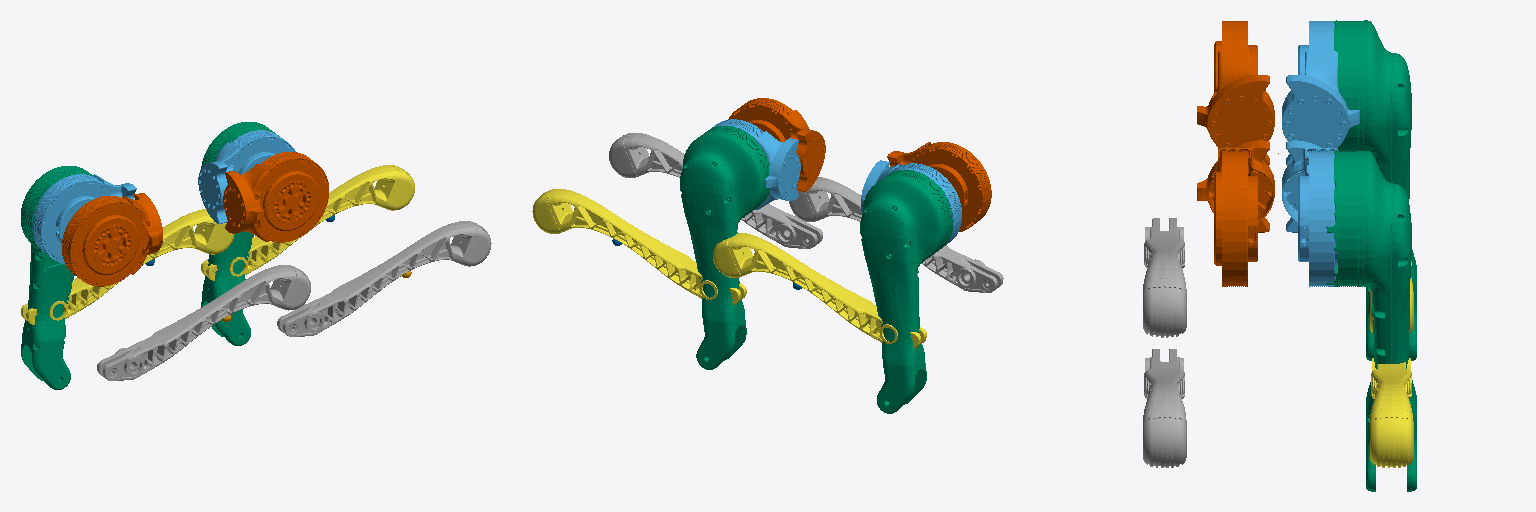
--- Render facts (derived) ---
The picture shows the robot from 3 angles, left to right: view 1: azimuth 30°, elevation 25°; view 2: azimuth 150°, elevation 25°; view 3: azimuth 270°, elevation 25°; orthographic projection.
Model go2 with 21 links and 20 joints (12 revolute, 8 fixed), rooted at base, posed joints at zero except 4 at the middle of their limits (FR_calf_joint = -1.78, FL_calf_joint = -1.78, RR_calf_joint = -1.78, RL_calf_joint = -1.78).
Visible links, largest first — view 1: FR_hip, RR_hip, RR_calf, FR_calf, RL_thigh, FL_calf, RL_hip, RL_calf, FL_thigh, FL_hip; view 2: RL_thigh, FL_thigh, FL_calf, RL_calf, FR_calf, RR_calf, RR_hip, FR_hip, FL_hip, RL_hip; view 3: FL_thigh, RL_thigh, FR_hip, RR_hip, RL_hip, FL_hip, RR_calf, FR_calf, FL_calf.
Link boxes in pixels (x1,y1,x2,y2): FR_hip: [223, 152, 328, 242]; RR_hip: [62, 193, 162, 286]; RR_calf: [97, 265, 310, 380]; FR_calf: [277, 221, 491, 336]; RL_thigh: [21, 166, 95, 389]; FL_calf: [201, 165, 414, 280]; RL_hip: [32, 174, 136, 264]; RL_calf: [21, 209, 234, 324]; FL_thigh: [201, 122, 278, 345]; FL_hip: [198, 130, 295, 223]; RL_thigh: [860, 170, 953, 413]; FL_thigh: [680, 126, 769, 369]; FL_calf: [532, 189, 746, 304]; RL_calf: [713, 233, 926, 348]; FR_calf: [609, 133, 822, 248]; RR_calf: [789, 177, 1003, 292]; RR_hip: [887, 142, 991, 231]; FR_hip: [728, 98, 825, 191]; FL_hip: [711, 119, 800, 209]; RL_hip: [861, 160, 961, 245]; FL_thigh: [1326, 151, 1416, 491]; RL_thigh: [1334, 20, 1416, 360]; FR_hip: [1197, 140, 1274, 286]; RR_hip: [1197, 21, 1274, 165]; RL_hip: [1282, 21, 1359, 165]; FL_hip: [1282, 140, 1337, 286]; RR_calf: [1143, 218, 1186, 337]; FR_calf: [1143, 349, 1186, 467]; FL_calf: [1370, 358, 1413, 467].
Size in the robot's own frame: 0.8544 by 0.3435 by 0.4589 metres.
10 mesh visuals loaded from 8 distinct referenced files (3 Collada DAE); not drawn: 6 (reference not matched to a file when rendering).

URDF robot description (go2):
<?xml version="1.0" ?>
<!-- =================================================================================== -->
<!-- |    This document was autogenerated by xacro from robot.xacro                    | -->
<!-- |    EDITING THIS FILE BY HAND IS NOT RECOMMENDED                                 | -->
<!-- =================================================================================== -->
<robot name="go2">
  <material name="black">
    <color rgba="0.0 0.0 0.0 1.0"/>
  </material>
  <material name="blue">
    <color rgba="0.0 0.0 0.8 1.0"/>
  </material>
  <material name="green">
    <color rgba="0.0 0.8 0.0 1.0"/>
  </material>
  <material name="grey">
    <color rgba="0.2 0.2 0.2 0.0"/>
  </material>
  <material name="silver">
    <color rgba="0.9137254901960784 0.9137254901960784 0.8470588235294118 1.0"/>
  </material>
  <material name="orange">
    <color rgba="1.0 0.4235294117647059 0.0392156862745098 1.0"/>
  </material>
  <material name="brown">
    <color rgba="0.8705882352941177 0.8117647058823529 0.7647058823529411 1.0"/>
  </material>
  <material name="red">
    <color rgba="0.8 0.0 0.0 1.0"/>
  </material>
  <material name="white">
    <color rgba="1.0 1.0 1.0 1.0"/>
  </material>
  <!-- ros_control plugin -->
  <gazebo>
    <plugin filename="libgazebo_ros_control.so" name="gazebo_ros_control">
      <!-- <robotNamespace>/go2_gazebo</robotNamespace>
      <robotSimType>gazebo_ros_control/DefaultRobotHWSim</robotSimType> -->
    </plugin>
  </gazebo>
  <!-- Show the trajectory of trunk center. -->
  <!--gazebo>
        <plugin name="3dplot" filename="libLinkPlot3DPlugin.so">
            <frequency>10</frequency>
            <plot>
                <link>base</link>
                <pose>0 0 0 0 0 0</pose>
                <material>Gazebo/Yellow</material>
            </plot>
        </plugin>
    </gazebo-->
  <!-- Show the trajectory of foot. You can add another trajectory about another foot. -->
  <!-- <gazebo>
    <plugin filename="libLinkPlot3DPlugin.so" name="3dplot">
      <frequency>100</frequency>
      <plot>
        <link>FL_foot</link>
        <pose>0 0 0 0 0 0</pose>
      </plot>
    </plugin>
  </gazebo> -->
  <gazebo> 
    <plugin filename="libgazebo_ros_force.so" name="gazebo_ros_force">
      <bodyName>trunk</bodyName>
      <topicName>/apply_force/trunk</topicName>
    </plugin>
  </gazebo>
  <gazebo reference="imu_link">
    <gravity>true</gravity>
    <sensor name="imu_sensor" type="imu">
      <always_on>true</always_on>
      <update_rate>1000</update_rate>
      <visualize>true</visualize>
      <topic>__default_topic__</topic>
      <plugin filename="libgazebo_ros_imu_sensor.so" name="imu_plugin">
        <topicName>trunk_imu</topicName>
        <bodyName>imu_link</bodyName>
        <updateRateHZ>1000.0</updateRateHZ>
        <gaussianNoise>0.0</gaussianNoise>
        <xyzOffset>0 0 0</xyzOffset>
        <rpyOffset>0 0 0</rpyOffset>
        <frameName>imu_link</frameName>
      </plugin>
      <pose>0 0 0 0 0 0</pose>
    </sensor>
  </gazebo>
  <!-- Foot contacts. -->
  <gazebo reference="FR_calf">
    <sensor name="FR_foot_contact" type="contact">
      <update_rate>100</update_rate>
      <plugin filename="libunitreeFootContactPlugin.so" name="contactPlugin"/>
      <contact>
        <collision>FR_calf_fixed_joint_lump__FR_foot_collision_1</collision>
      </contact>
    </sensor>
  </gazebo>
  <gazebo reference="FL_calf">
    <sensor name="FL_foot_contact" type="contact">
      <update_rate>100</update_rate>
      <plugin filename="libunitreeFootContactPlugin.so" name="contactPlugin"/>
      <contact>
        <collision>FL_calf_fixed_joint_lump__FL_foot_collision_1</collision>
      </contact>
    </sensor>
  </gazebo>
  <gazebo reference="RR_calf">
    <sensor name="RR_foot_contact" type="contact">
      <update_rate>100</update_rate>
      <plugin filename="libunitreeFootContactPlugin.so" name="contactPlugin"/>
      <contact>
        <collision>RR_calf_fixed_joint_lump__RR_foot_collision_1</collision>
      </contact>
    </sensor>
  </gazebo>
  <gazebo reference="RL_calf">
    <sensor name="RL_foot_contact" type="contact">
      <update_rate>100</update_rate>
      <plugin filename="libunitreeFootContactPlugin.so" name="contactPlugin"/>
      <contact>
        <collision>RL_calf_fixed_joint_lump__RL_foot_collision_1</collision>
      </contact>
    </sensor>
  </gazebo>
  <!-- Visualization of Foot contacts. -->
  <gazebo reference="FR_foot">
    <visual>
      <plugin filename="libunitreeDrawForcePlugin.so" name="drawForcePlugin">
        <topicName>FR_foot_contact</topicName>
      </plugin>
    </visual>
  </gazebo>
  <gazebo reference="FL_foot">
    <visual>
      <plugin filename="libunitreeDrawForcePlugin.so" name="drawForcePlugin">
        <topicName>FL_foot_contact</topicName>
      </plugin>
    </visual>
  </gazebo>
  <gazebo reference="RR_foot">
    <visual>
      <plugin filename="libunitreeDrawForcePlugin.so" name="drawForcePlugin">
        <topicName>RR_foot_contact</topicName>
      </plugin>
    </visual>
  </gazebo>
  <gazebo reference="RL_foot">
    <visual>
      <plugin filename="libunitreeDrawForcePlugin.so" name="drawForcePlugin">
        <topicName>RL_foot_contact</topicName>
      </plugin>
    </visual>
  </gazebo>
  <gazebo reference="base">
    <turnGravityOff>false</turnGravityOff>
  </gazebo>
  <gazebo reference="trunk">
    <mu1>0.2</mu1>
    <mu2>0.2</mu2>
    <kp value="1000000.0"/>
    <kd value="1.0"/>
  </gazebo>
  <gazebo reference="stick_link">
    <mu1>0.2</mu1>
    <mu2>0.2</mu2>
  </gazebo>
  <gazebo reference="imu_link">
    <mu1>0.2</mu1>
    <mu2>0.2</mu2>
  </gazebo>
  <!-- FL leg -->
  <gazebo reference="FL_hip">
    <mu1>0.2</mu1>
    <mu2>0.2</mu2>
  </gazebo>
  <gazebo reference="FL_thigh">
    <mu1>0.2</mu1>
    <mu2>0.2</mu2>
    <self_collide>1</self_collide>
    <kp value="1000000.0"/>
    <kd value="1.0"/>
  </gazebo>
  <gazebo reference="FL_calf">
    <mu1>0.2</mu1>
    <mu2>0.2</mu2>
    <self_collide>1</self_collide>
  </gazebo>
  <gazebo reference="FL_foot">
    <mu1>0.6</mu1>
    <mu2>0.6</mu2>
    <self_collide>1</self_collide>
    <kp value="1000000.0"/>
    <kd value="1.0"/>
  </gazebo>
  <!-- FR leg -->
  <gazebo reference="FR_hip">
    <mu1>0.2</mu1>
    <mu2>0.2</mu2>
  </gazebo>
  <gazebo reference="FR_thigh">
    <mu1>0.2</mu1>
    <mu2>0.2</mu2>
    <self_collide>1</self_collide>
    <kp value="1000000.0"/>
    <kd value="1.0"/>
  </gazebo>
  <gazebo reference="FR_calf">
    <mu1>0.2</mu1>
    <mu2>0.2</mu2>
    <self_collide>1</self_collide>
  </gazebo>
  <gazebo reference="FR_foot">
    <mu1>0.6</mu1>
    <mu2>0.6</mu2>
    <self_collide>1</self_collide>
    <kp value="1000000.0"/>
    <kd value="1.0"/>
  </gazebo>
  <!-- RL leg -->
  <gazebo reference="RL_hip">
    <mu1>0.2</mu1>
    <mu2>0.2</mu2>
  </gazebo>
  <gazebo reference="RL_thigh">
    <mu1>0.2</mu1>
    <mu2>0.2</mu2>
    <self_collide>1</self_collide>
    <kp value="1000000.0"/>
    <kd value="1.0"/>
  </gazebo>
  <gazebo reference="RL_calf">
    <mu1>0.2</mu1>
    <mu2>0.2</mu2>
    <self_collide>1</self_collide>
  </gazebo>
  <gazebo reference="RL_foot">
    <mu1>0.6</mu1>
    <mu2>0.6</mu2>
    <self_collide>1</self_collide>
    <kp value="1000000.0"/>
    <kd value="1.0"/>
  </gazebo>
  <!-- RR leg -->
  <gazebo reference="RR_hip">
    <mu1>0.2</mu1>
    <mu2>0.2</mu2>
  </gazebo>
  <gazebo reference="RR_thigh">
    <mu1>0.2</mu1>
    <mu2>0.2</mu2>
    <self_collide>1</self_collide>
    <kp value="1000000.0"/>
    <kd value="1.0"/>
  </gazebo>
  <gazebo reference="RR_calf">
    <mu1>0.2</mu1>
    <mu2>0.2</mu2>
    <self_collide>1</self_collide>
  </gazebo>
  <gazebo reference="RR_foot">
    <mu1>0.6</mu1>
    <mu2>0.6</mu2>
    <self_collide>1</self_collide>
    <kp value="1000000.0"/>
    <kd value="1.0"/>
  </gazebo>
  <!-- <xacro:stairs stairs="15" xpos="0" ypos="0" zpos="0" /> -->
  <!-- Rotor related joint and link is only for demonstrate location. -->
  <!-- Actually, the rotor will rotate and the joint is not fixed. Reduction ratio should be considered. -->
  <link name="base">
    <visual>
      <origin rpy="0 0 0" xyz="0 0 0"/>
      <geometry>
        <box size="0.001 0.001 0.001"/>
      </geometry>
    </visual>
  </link>
  <joint name="velodyne_base_mount_joint" type="fixed">
    <origin rpy="0 0 0" xyz="0.2 0 0.08"/>
    <parent link="trunk"/>
    <child link="velodyne_base_link"/>
  </joint>
  <link name="velodyne_base_link">
    <inertial>
      <mass value="0.01"/>
      <origin xyz="0 0 0.03585"/>
      <inertia ixx="0.000908059425" ixy="0" ixz="0" iyy="0.000908059425" iyz="0" izz="0.0011049624"/>
    </inertial>
    <visual>
      <geometry>
        <mesh filename="package://velodyne_description/meshes/VLP16_base_1.dae"/>
      </geometry>
    </visual>
    <visual>
      <geometry>
        <mesh filename="package://velodyne_description/meshes/VLP16_base_2.dae"/>
      </geometry>
    </visual>
    <collision>
      <origin rpy="0 0 0" xyz="0 0 0.03585"/>
      <geometry>
        <cylinder length="0.0717" radius="0.0516"/>
      </geometry>
    </collision>
  </link>
  <joint name="velodyne_base_scan_joint" type="fixed">
    <origin rpy="0 0 0" xyz="0 0 0.0377"/>
    <parent link="velodyne_base_link"/>
    <child link="velodyne"/>
  </joint>
  <link name="velodyne">
    <inertial>
      <mass value="0.01"/>
      <origin xyz="0 0 0"/>
      <inertia ixx="1e-7" ixy="0" ixz="0" iyy="1e-7" iyz="0" izz="1e-7"/>
    </inertial>
    <visual>
      <origin xyz="0 0 -0.0377"/>
      <geometry>
        <mesh filename="package://velodyne_description/meshes/VLP16_scan.dae"/>
      </geometry>
    </visual>
    <collision>
      <geometry>
        <sphere radius="0"/>
      </geometry>
    </collision>
  </link>
  <!-- Gazebo requires the velodyne_gazebo_plugins package -->
  <gazebo reference="velodyne">
    <sensor name="velodyne-VLP16" type="ray">
      <pose>0 0 0 0 0 0</pose>
      <visualize>false</visualize>
      <update_rate>10</update_rate>
      <ray>
        <scan>
          <horizontal>
            <samples>440</samples>
            <resolution>1</resolution>
            <min_angle>-3.141592653589793</min_angle>
            <max_angle>3.141592653589793</max_angle>
          </horizontal>
          <vertical>
            <samples>16</samples>
            <resolution>1</resolution>
            <min_angle>-0.2617993877991494</min_angle>
            <max_angle> 0.2617993877991494</max_angle>
          </vertical>
        </scan>
        <range>
          <min>0.3</min>
          <max>131.0</max>
          <resolution>0.001</resolution>
        </range>
        <noise>
          <type>gaussian</type>
          <mean>0.0</mean>
          <stddev>0.0</stddev>
        </noise>
      </ray>
      <plugin filename="libgazebo_ros_velodyne_laser.so" name="gazebo_ros_laser_controller">
        <topicName>/velodyne_points</topicName>
        <frameName>velodyne</frameName>
        <organize_cloud>False</organize_cloud>
        <min_range>0.9</min_range>
        <max_range>130.0</max_range>
        <gaussianNoise>0.008</gaussianNoise>
      </plugin>
    </sensor>
  </gazebo>
  <joint name="floating_base" type="fixed">
    <origin rpy="0 0 0" xyz="0 0 0"/>
    <parent link="base"/>
    <child link="trunk"/>
  </joint>
  <link name="trunk">
    <visual>
      <origin rpy="0 0 0" xyz="0 0 0"/>
      <geometry>
        <mesh filename="package://go2_description/meshes/trunk.dae" scale="1 1 1"/>
      </geometry>
      <!-- <material name="orange"/> -->
    </visual>
    <collision>
      <origin rpy="0 0 0" xyz="0 0 0"/>
      <geometry>
        <box size="0.3762 0.0935 0.114"/>
      </geometry>
    </collision>
    <inertial>
      <origin rpy="0 0 0" xyz="0.021112 0.0 -0.005366"/>
      <mass value="6.921"/>
      <inertia ixx="0.02448" ixy="0.00012166" ixz="0.0014849" iyy="0.098077" iyz="-3.12e-05" izz="0.107"/>
    </inertial>
  </link>
  <joint name="imu_joint" type="fixed">
    <parent link="trunk"/>
    <child link="imu_link"/>
    <origin rpy="0 0 0" xyz="0 0 0"/>
  </joint>
  <link name="imu_link">
    <inertial>
      <mass value="0.001"/>
      <origin rpy="0 0 0" xyz="0 0 0"/>
      <inertia ixx="0.0001" ixy="0" ixz="0" iyy="0.0001" iyz="0" izz="0.0001"/>
    </inertial>
    <visual>
      <origin rpy="0 0 0" xyz="0 0 0"/>
      <geometry>
        <box size="0.001 0.001 0.001"/>
      </geometry>
      <!-- <material name="red"/> -->
    </visual>
    <collision>
      <origin rpy="0 0 0" xyz="0 0 0"/>
      <geometry>
        <box size=".001 .001 .001"/>
      </geometry>
    </collision>
  </link>
  <joint name="FR_hip_joint" type="revolute">
    <origin rpy="0 0 0" xyz="0.1934 -0.0465 0"/>
    <parent link="trunk"/>
    <child link="FR_hip"/>
    <axis xyz="1 0 0"/>
    <dynamics damping="0.01" friction="0.2"/>
    <limit effort="23.7" lower="-1.0472" upper="1.0472" velocity="30.1"/>
  </joint>
  <link name="FR_hip">
    <visual>
      <origin rpy="3.141592653589793 0 0" xyz="0 0 0"/>
      <geometry>
        <mesh filename="package://go2_description/meshes/hip.dae" scale="1 1 1"/>
      </geometry>
      <!-- <material name="orange"/> -->
    </visual>
    <collision>
      <origin rpy="1.5707963267948966 0 0" xyz="0 -0.0955 0"/>
      <geometry>
        <cylinder length="0.04" radius="0.046"/>
      </geometry>
    </collision>
    <inertial>
      <origin rpy="0 0 0" xyz="-0.0054 -0.00194 -0.000105"/>
      <mass value="0.678"/>
      <inertia ixx="0.00048" ixy="3.01e-06" ixz="1.11e-06" iyy="0.000884" iyz="1.42e-06" izz="0.000596"/>
    </inertial>
  </link>
  <joint name="FR_thigh_joint" type="revolute">
    <origin rpy="0 0 0" xyz="0 -0.0955 0"/>
    <parent link="FR_hip"/>
    <child link="FR_thigh"/>
    <axis xyz="0 1 0"/>
    <dynamics damping="0.01" friction="0.2"/>
    <limit effort="23.7" lower="-1.5708" upper="3.4907" velocity="30.1"/>
  </joint>
  <link name="FR_thigh">
    <visual>
      <origin rpy="0 0 0" xyz="0 0 0"/>
      <geometry>
        <mesh filename="package://go2_description/meshes/thigh_mirror.dae" scale="1 1 1"/>
      </geometry>
      <!-- <material name="orange"/> -->
    </visual>
    <collision>
      <origin rpy="0 1.5707963267948966 0" xyz="0 0 -0.1065"/>
      <geometry>
        <box size="0.213 0.0245 0.034"/>
      </geometry>
    </collision>
    <inertial>
      <origin rpy="0 0 0" xyz="-0.00374 0.0223 -0.0327"/>
      <mass value="1.152"/>
      <inertia ixx="0.00584" ixy="-8.72e-05" ixz="-0.000289" iyy="0.0058" iyz="-0.000808" izz="0.00103"/>
    </inertial>
  </link>
  <joint name="FR_calf_joint" type="revolute">
    <origin rpy="0 0 0" xyz="0 0 -0.213"/>
    <parent link="FR_thigh"/>
    <child link="FR_calf"/>
    <axis xyz="0 1 0"/>
    <dynamics damping="0.01" friction="0.2"/>
    <limit effort="35.55" lower="-2.7227" upper="-0.83776" velocity="20.06"/>
  </joint>
  <link name="FR_calf">
    <visual>
      <origin rpy="0 0 0" xyz="0 0 0"/>
      <geometry>
        <mesh filename="package://go2_description/meshes/calf.dae" scale="1 1 1"/>
      </geometry>
      <!-- <material name="orange"/> -->
    </visual>
    <collision>
      <origin rpy="0 1.5707963267948966 0" xyz="0 0 -0.1065"/>
      <geometry>
        <box size="0.213 0.016 0.016"/>
      </geometry>
    </collision>
    <inertial>
      <origin rpy="0 0 0" xyz="0.00548 -0.000975 -0.115"/>
      <mass value="0.154"/>
      <inertia ixx="0.00108" ixy="3.4e-07" ixz="1.72e-05" iyy="0.0011" iyz="8.28e-06" izz="3.29e-05"/>
    </inertial>
  </link>
  <joint name="FR_foot_fixed" type="fixed">
    0
            
    <origin rpy="0 0 0" xyz="0 0 -0.213"/>
    <parent link="FR_calf"/>
    <child link="FR_foot"/>
  </joint>
  <link name="FR_foot">
    <visual>
      <origin rpy="0 0 0" xyz="0 0 0"/>
      <geometry>
        <sphere radius="0.01"/>
      </geometry>
      <!-- <material name="orange"/> -->
    </visual>
    <collision>
      <origin rpy="0 0 0" xyz="0 0 0"/>
      <geometry>
        <sphere radius="0.02"/>
      </geometry>
    </collision>
    <inertial>
      <mass value="0.06"/>
      <inertia ixx="9.600000000000001e-06" ixy="0.0" ixz="0.0" iyy="9.600000000000001e-06" iyz="0.0" izz="9.600000000000001e-06"/>
    </inertial>
  </link>
  <transmission name="FR_hip_tran">
    <type>transmission_interface/SimpleTransmission</type>
    <joint name="FR_hip_joint">
      <hardwareInterface>hardware_interface/EffortJointInterface</hardwareInterface>
    </joint>
    <actuator name="FR_hip_motor">
      <hardwareInterface>hardware_interface/EffortJointInterface</hardwareInterface>
      <mechanicalReduction>1</mechanicalReduction>
    </actuator>
  </transmission>
  <transmission name="FR_thigh_tran">
    <type>transmission_interface/SimpleTransmission</type>
    <joint name="FR_thigh_joint">
      <hardwareInterface>hardware_interface/EffortJointInterface</hardwareInterface>
    </joint>
    <actuator name="FR_thigh_motor">
      <hardwareInterface>hardware_interface/EffortJointInterface</hardwareInterface>
      <mechanicalReduction>1</mechanicalReduction>
    </actuator>
  </transmission>
  <transmission name="FR_calf_tran">
    <type>transmission_interface/SimpleTransmission</type>
    <joint name="FR_calf_joint">
      <hardwareInterface>hardware_interface/EffortJointInterface</hardwareInterface>
    </joint>
    <actuator name="FR_calf_motor">
      <hardwareInterface>hardware_interface/EffortJointInterface</hardwareInterface>
      <mechanicalReduction>1</mechanicalReduction>
    </actuator>
  </transmission>
  <joint name="FL_hip_joint" type="revolute">
    <origin rpy="0 0 0" xyz="0.1934 0.0465 0"/>
    <parent link="trunk"/>
    <child link="FL_hip"/>
    <axis xyz="1 0 0"/>
    <dynamics damping="0.01" friction="0.2"/>
    <limit effort="23.7" lower="-1.0472" upper="1.0472" velocity="30.1"/>
  </joint>
  <link name="FL_hip">
    <visual>
      <origin rpy="0 0 0" xyz="0 0 0"/>
      <geometry>
        <mesh filename="package://go2_description/meshes/hip.dae" scale="1 1 1"/>
      </geometry>
      <!-- <material name="orange"/> -->
    </visual>
    <collision>
      <origin rpy="1.5707963267948966 0 0" xyz="0 0.0955 0"/>
      <geometry>
        <cylinder length="0.04" radius="0.046"/>
      </geometry>
    </collision>
    <inertial>
      <origin rpy="0 0 0" xyz="-0.0054 0.00194 -0.000105"/>
      <mass value="0.678"/>
      <inertia ixx="0.00048" ixy="-3.01e-06" ixz="1.11e-06" iyy="0.000884" iyz="-1.42e-06" izz="0.000596"/>
    </inertial>
  </link>
  <joint name="FL_thigh_joint" type="revolute">
    <origin rpy="0 0 0" xyz="0 0.0955 0"/>
    <parent link="FL_hip"/>
    <child link="FL_thigh"/>
    <axis xyz="0 1 0"/>
    <dynamics damping="0.01" friction="0.2"/>
    <limit effort="23.7" lower="-1.5708" upper="3.4907" velocity="30.1"/>
  </joint>
  <link name="FL_thigh">
    <visual>
      <origin rpy="0 0 0" xyz="0 0 0"/>
      <geometry>
        <mesh filename="package://go2_description/meshes/thigh.dae" scale="1 1 1"/>
      </geometry>
      <!-- <material name="orange"/> -->
    </visual>
    <collision>
      <origin rpy="0 1.5707963267948966 0" xyz="0 0 -0.1065"/>
      <geometry>
        <box size="0.213 0.0245 0.034"/>
      </geometry>
    </collision>
    <inertial>
      <origin rpy="0 0 0" xyz="-0.00374 -0.0223 -0.0327"/>
      <mass value="1.152"/>
      <inertia ixx="0.00584" ixy="8.72e-05" ixz="-0.000289" iyy="0.0058" iyz="0.000808" izz="0.00103"/>
    </inertial>
  </link>
  <joint name="FL_calf_joint" type="revolute">
    <origin rpy="0 0 0" xyz="0 0 -0.213"/>
    <parent link="FL_thigh"/>
    <child link="FL_calf"/>
    <axis xyz="0 1 0"/>
    <dynamics damping="0.01" friction="0.2"/>
    <limit effort="35.55" lower="-2.7227" upper="-0.83776" velocity="20.06"/>
  </joint>
  <link name="FL_calf">
    <visual>
      <origin rpy="0 0 0" xyz="0 0 0"/>
      <geometry>
        <mesh filename="package://go2_description/meshes/calf.dae" scale="1 1 1"/>
      </geometry>
      <!-- <material name="orange"/> -->
    </visual>
    <collision>
      <origin rpy="0 1.5707963267948966 0" xyz="0 0 -0.1065"/>
      <geometry>
        <box size="0.213 0.016 0.016"/>
      </geometry>
    </collision>
    <inertial>
      <origin rpy="0 0 0" xyz="0.00548 -0.000975 -0.115"/>
      <mass value="0.154"/>
      <inertia ixx="0.00108" ixy="3.4e-07" ixz="1.72e-05" iyy="0.0011" iyz="8.28e-06" izz="3.29e-05"/>
    </inertial>
  </link>
  <joint name="FL_foot_fixed" type="fixed">
    0
            
    <origin rpy="0 0 0" xyz="0 0 -0.213"/>
    <parent link="FL_calf"/>
    <child link="FL_foot"/>
  </joint>
  <link name="FL_foot">
    <visual>
      <origin rpy="0 0 0" xyz="0 0 0"/>
      <geometry>
        <sphere radius="0.01"/>
      </geometry>
      <!-- <material name="orange"/> -->
    </visual>
    <collision>
      <origin rpy="0 0 0" xyz="0 0 0"/>
      <geometry>
        <sphere radius="0.02"/>
      </geometry>
    </collision>
    <inertial>
      <mass value="0.06"/>
      <inertia ixx="9.600000000000001e-06" ixy="0.0" ixz="0.0" iyy="9.600000000000001e-06" iyz="0.0" izz="9.600000000000001e-06"/>
    </inertial>
  </link>
  <transmission name="FL_hip_tran">
    <type>transmission_interface/SimpleTransmission</type>
    <joint name="FL_hip_joint">
      <hardwareInterface>hardware_interface/EffortJointInterface</hardwareInterface>
    </joint>
    <actuator name="FL_hip_motor">
      <hardwareInterface>hardware_interface/EffortJointInterface</hardwareInterface>
      <mechanicalReduction>1</mechanicalReduction>
    </actuator>
  </transmission>
  <transmission name="FL_thigh_tran">
    <type>transmission_interface/SimpleTransmission</type>
    <joint name="FL_thigh_joint">
      <hardwareInterface>hardware_interface/EffortJointInterface</hardwareInterface>
    </joint>
    <actuator name="FL_thigh_motor">
      <hardwareInterface>hardware_interface/EffortJointInterface</hardwareInterface>
      <mechanicalReduction>1</mechanicalReduction>
    </actuator>
  </transmission>
  <transmission name="FL_calf_tran">
    <type>transmission_interface/SimpleTransmission</type>
    <joint name="FL_calf_joint">
      <hardwareInterface>hardware_interface/EffortJointInterface</hardwareInterface>
    </joint>
    <actuator name="FL_calf_motor">
      <hardwareInterface>hardware_interface/EffortJointInterface</hardwareInterface>
      <mechanicalReduction>1</mechanicalReduction>
    </actuator>
  </transmission>
  <joint name="RR_hip_joint" type="revolute">
    <origin rpy="0 0 0" xyz="-0.1934 -0.0465 0"/>
    <parent link="trunk"/>
    <child link="RR_hip"/>
    <axis xyz="1 0 0"/>
    <dynamics damping="0.01" friction="0.2"/>
    <limit effort="23.7" lower="-1.0472" upper="1.0472" velocity="30.1"/>
  </joint>
  <link name="RR_hip">
    <visual>
      <origin rpy="3.141592653589793 3.141592653589793 0" xyz="0 0 0"/>
      <geometry>
        <mesh filename="package://go2_description/meshes/hip.dae" scale="1 1 1"/>
      </geometry>
      <!-- <material name="orange"/> -->
    </visual>
    <collision>
      <origin rpy="1.5707963267948966 0 0" xyz="0 -0.0955 0"/>
      <geometry>
        <cylinder length="0.04" radius="0.046"/>
      </geometry>
    </collision>
    <inertial>
      <origin rpy="0 0 0" xyz="0.0054 -0.00194 -0.000105"/>
      <mass value="0.678"/>
      <inertia ixx="0.00048" ixy="-3.01e-06" ixz="-1.11e-06" iyy="0.000884" iyz="1.42e-06" izz="0.000596"/>
    </inertial>
  </link>
  <joint name="RR_thigh_joint" type="revolute">
    <origin rpy="0 0 0" xyz="0 -0.0955 0"/>
    <parent link="RR_hip"/>
    <child link="RR_thigh"/>
    <axis xyz="0 1 0"/>
    <dynamics damping="0.01" friction="0.2"/>
    <limit effort="23.7" lower="-1.5708" upper="3.4907" velocity="30.1"/>
  </joint>
  <link name="RR_thigh">
    <visual>
      <origin rpy="0 0 0" xyz="0 0 0"/>
      <geometry>
        <mesh filename="package://go2_description/meshes/thigh_mirror.dae" scale="1 1 1"/>
      </geometry>
      <!-- <material name="orange"/> -->
    </visual>
    <collision>
      <origin rpy="0 1.5707963267948966 0" xyz="0 0 -0.1065"/>
      <geometry>
        <box size="0.213 0.0245 0.034"/>
      </geometry>
    </collision>
    <inertial>
      <origin rpy="0 0 0" xyz="-0.00374 0.0223 -0.0327"/>
      <mass value="1.152"/>
      <inertia ixx="0.00584" ixy="-8.72e-05" ixz="-0.000289" iyy="0.0058" iyz="-0.000808" izz="0.00103"/>
    </inertial>
  </link>
  <joint name="RR_calf_joint" type="revolute">
    <origin rpy="0 0 0" xyz="0 0 -0.213"/>
    <parent link="RR_thigh"/>
    <child link="RR_calf"/>
    <axis xyz="0 1 0"/>
    <dynamics damping="0.01" friction="0.2"/>
    <limit effort="35.55" lower="-2.7227" upper="-0.83776" velocity="20.06"/>
  </joint>
  <link name="RR_calf">
    <visual>
      <origin rpy="0 0 0" xyz="0 0 0"/>
      <geometry>
        <mesh filename="package://go2_description/meshes/calf.dae" scale="1 1 1"/>
      </geometry>
      <!-- <material name="orange"/> -->
    </visual>
    <collision>
      <origin rpy="0 1.5707963267948966 0" xyz="0 0 -0.1065"/>
      <geometry>
        <box size="0.213 0.016 0.016"/>
      </geometry>
    </collision>
    <inertial>
      <origin rpy="0 0 0" xyz="0.00548 -0.000975 -0.115"/>
      <mass value="0.154"/>
      <inertia ixx="0.00108" ixy="3.4e-07" ixz="1.72e-05" iyy="0.0011" iyz="8.28e-06" izz="3.29e-05"/>
    </inertial>
  </link>
  <joint name="RR_foot_fixed" type="fixed">
    0
            
    <origin rpy="0 0 0" xyz="0 0 -0.213"/>
    <parent link="RR_calf"/>
    <child link="RR_foot"/>
  </joint>
  <link name="RR_foot">
    <visual>
      <origin rpy="0 0 0" xyz="0 0 0"/>
      <geometry>
        <sphere radius="0.01"/>
      </geometry>
      <!-- <material name="orange"/> -->
    </visual>
    <collision>
      <origin rpy="0 0 0" xyz="0 0 0"/>
      <geometry>
        <sphere radius="0.02"/>
      </geometry>
    </collision>
    <inertial>
      <mass value="0.06"/>
      <inertia ixx="9.600000000000001e-06" ixy="0.0" ixz="0.0" iyy="9.600000000000001e-06" iyz="0.0" izz="9.600000000000001e-06"/>
    </inertial>
  </link>
  <transmission name="RR_hip_tran">
    <type>transmission_interface/SimpleTransmission</type>
    <joint name="RR_hip_joint">
      <hardwareInterface>hardware_interface/EffortJointInterface</hardwareInterface>
    </joint>
    <actuator name="RR_hip_motor">
      <hardwareInterface>hardware_interface/EffortJointInterface</hardwareInterface>
      <mechanicalReduction>1</mechanicalReduction>
    </actuator>
  </transmission>
  <transmission name="RR_thigh_tran">
    <type>transmission_interface/SimpleTransmission</type>
    <joint name="RR_thigh_joint">
      <hardwareInterface>hardware_interface/EffortJointInterface</hardwareInterface>
    </joint>
    <actuator name="RR_thigh_motor">
      <hardwareInterface>hardware_interface/EffortJointInterface</hardwareInterface>
      <mechanicalReduction>1</mechanicalReduction>
    </actuator>
  </transmission>
  <transmission name="RR_calf_tran">
    <type>transmission_interface/SimpleTransmission</type>
    <joint name="RR_calf_joint">
      <hardwareInterface>hardware_interface/EffortJointInterface</hardwareInterface>
    </joint>
    <actuator name="RR_calf_motor">
      <hardwareInterface>hardware_interface/EffortJointInterface</hardwareInterface>
      <mechanicalReduction>1</mechanicalReduction>
    </actuator>
  </transmission>
  <joint name="RL_hip_joint" type="revolute">
    <origin rpy="0 0 0" xyz="-0.1934 0.0465 0"/>
    <parent link="trunk"/>
    <child link="RL_hip"/>
    <axis xyz="1 0 0"/>
    <dynamics damping="0.01" friction="0.2"/>
    <limit effort="23.7" lower="-1.0472" upper="1.0472" velocity="30.1"/>
  </joint>
  <link name="RL_hip">
    <visual>
      <origin rpy="0 3.141592653589793 0" xyz="0 0 0"/>
      <geometry>
        <mesh filename="package://go2_description/meshes/hip.dae" scale="1 1 1"/>
      </geometry>
      <!-- <material name="orange"/> -->
    </visual>
    <collision>
      <origin rpy="1.5707963267948966 0 0" xyz="0 0.0955 0"/>
      <geometry>
        <cylinder length="0.04" radius="0.046"/>
      </geometry>
    </collision>
    <inertial>
      <origin rpy="0 0 0" xyz="0.0054 0.00194 -0.000105"/>
      <mass value="0.678"/>
      <inertia ixx="0.00048" ixy="3.01e-06" ixz="-1.11e-06" iyy="0.000884" iyz="-1.42e-06" izz="0.000596"/>
    </inertial>
  </link>
  <joint name="RL_thigh_joint" type="revolute">
    <origin rpy="0 0 0" xyz="0 0.0955 0"/>
    <parent link="RL_hip"/>
    <child link="RL_thigh"/>
    <axis xyz="0 1 0"/>
    <dynamics damping="0.01" friction="0.2"/>
    <limit effort="23.7" lower="-1.5708" upper="3.4907" velocity="30.1"/>
  </joint>
  <link name="RL_thigh">
    <visual>
      <origin rpy="0 0 0" xyz="0 0 0"/>
      <geometry>
        <mesh filename="package://go2_description/meshes/thigh.dae" scale="1 1 1"/>
      </geometry>
      <!-- <material name="orange"/> -->
    </visual>
    <collision>
      <origin rpy="0 1.5707963267948966 0" xyz="0 0 -0.1065"/>
      <geometry>
        <box size="0.213 0.0245 0.034"/>
      </geometry>
    </collision>
    <inertial>
      <origin rpy="0 0 0" xyz="-0.00374 -0.0223 -0.0327"/>
      <mass value="1.152"/>
      <inertia ixx="0.00584" ixy="8.72e-05" ixz="-0.000289" iyy="0.0058" iyz="0.000808" izz="0.00103"/>
    </inertial>
  </link>
  <joint name="RL_calf_joint" type="revolute">
    <origin rpy="0 0 0" xyz="0 0 -0.213"/>
    <parent link="RL_thigh"/>
    <child link="RL_calf"/>
    <axis xyz="0 1 0"/>
    <dynamics damping="0.01" friction="0.2"/>
    <limit effort="35.55" lower="-2.7227" upper="-0.83776" velocity="20.06"/>
  </joint>
  <link name="RL_calf">
    <visual>
      <origin rpy="0 0 0" xyz="0 0 0"/>
      <geometry>
        <mesh filename="package://go2_description/meshes/calf.dae" scale="1 1 1"/>
      </geometry>
      <!-- <material name="orange"/> -->
    </visual>
    <collision>
      <origin rpy="0 1.5707963267948966 0" xyz="0 0 -0.1065"/>
      <geometry>
        <box size="0.213 0.016 0.016"/>
      </geometry>
    </collision>
    <inertial>
      <origin rpy="0 0 0" xyz="0.00548 -0.000975 -0.115"/>
      <mass value="0.154"/>
      <inertia ixx="0.00108" ixy="3.4e-07" ixz="1.72e-05" iyy="0.0011" iyz="8.28e-06" izz="3.29e-05"/>
    </inertial>
  </link>
  <joint name="RL_foot_fixed" type="fixed">
    0
            
    <origin rpy="0 0 0" xyz="0 0 -0.213"/>
    <parent link="RL_calf"/>
    <child link="RL_foot"/>
  </joint>
  <link name="RL_foot">
    <visual>
      <origin rpy="0 0 0" xyz="0 0 0"/>
      <geometry>
        <sphere radius="0.01"/>
      </geometry>
      <!-- <material name="orange"/> -->
    </visual>
    <collision>
      <origin rpy="0 0 0" xyz="0 0 0"/>
      <geometry>
        <sphere radius="0.02"/>
      </geometry>
    </collision>
    <inertial>
      <mass value="0.06"/>
      <inertia ixx="9.600000000000001e-06" ixy="0.0" ixz="0.0" iyy="9.600000000000001e-06" iyz="0.0" izz="9.600000000000001e-06"/>
    </inertial>
  </link>
  <transmission name="RL_hip_tran">
    <type>transmission_interface/SimpleTransmission</type>
    <joint name="RL_hip_joint">
      <hardwareInterface>hardware_interface/EffortJointInterface</hardwareInterface>
    </joint>
    <actuator name="RL_hip_motor">
      <hardwareInterface>hardware_interface/EffortJointInterface</hardwareInterface>
      <mechanicalReduction>1</mechanicalReduction>
    </actuator>
  </transmission>
  <transmission name="RL_thigh_tran">
    <type>transmission_interface/SimpleTransmission</type>
    <joint name="RL_thigh_joint">
      <hardwareInterface>hardware_interface/EffortJointInterface</hardwareInterface>
    </joint>
    <actuator name="RL_thigh_motor">
      <hardwareInterface>hardware_interface/EffortJointInterface</hardwareInterface>
      <mechanicalReduction>1</mechanicalReduction>
    </actuator>
  </transmission>
  <transmission name="RL_calf_tran">
    <type>transmission_interface/SimpleTransmission</type>
    <joint name="RL_calf_joint">
      <hardwareInterface>hardware_interface/EffortJointInterface</hardwareInterface>
    </joint>
    <actuator name="RL_calf_motor">
      <hardwareInterface>hardware_interface/EffortJointInterface</hardwareInterface>
      <mechanicalReduction>1</mechanicalReduction>
    </actuator>
  </transmission>
</robot>
